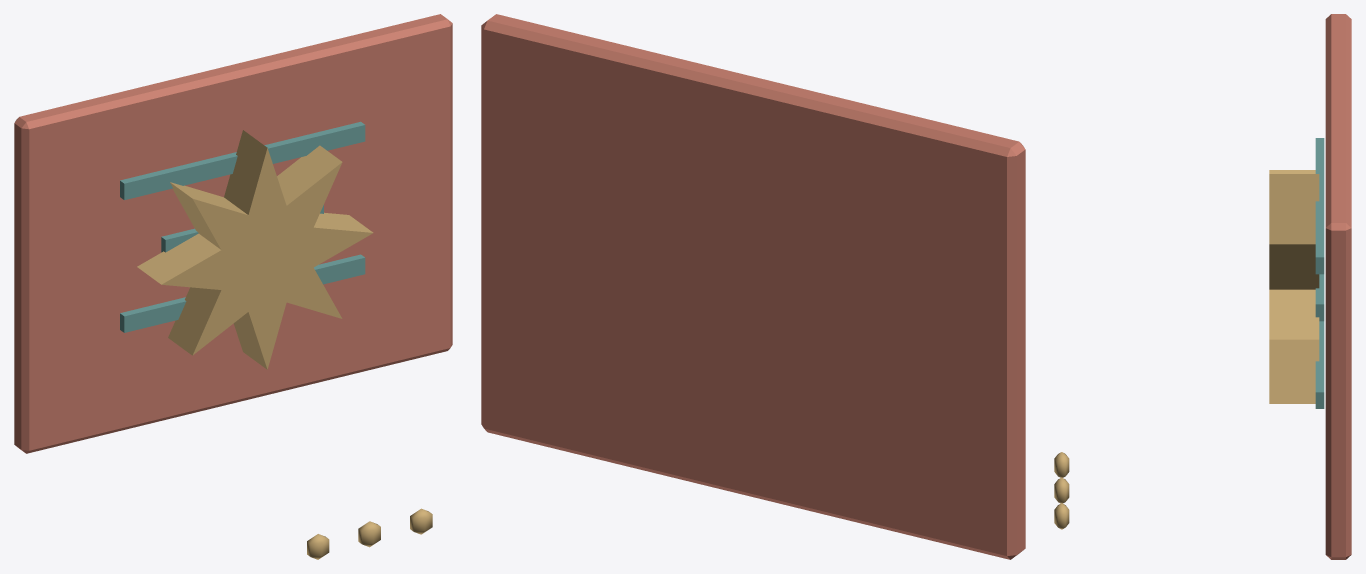
3 renders of one model, left to right at view 1: azimuth 30°, elevation 25°; view 2: azimuth 150°, elevation 25°; view 3: azimuth 270°, elevation 25°, orthographic. The views are drawn at different scales.
Parts seen in each view (by area): view 1: g_s41; view 2: g_s41; view 3: g_s41.
Boxes of the visible parts, x1,y1,x2,y2 form: g_s41: (14,14,452,559); g_s41: (481,14,1025,559); g_s41: (1054,14,1351,559).
Size of the model in its own units: 0.2924 by 0.246 by 0.1719.
